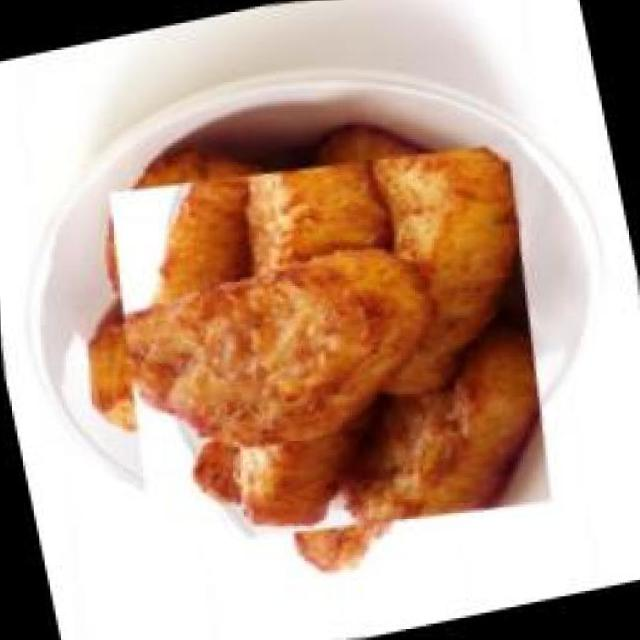triangle_hash_brown: (84, 101, 577, 594)
